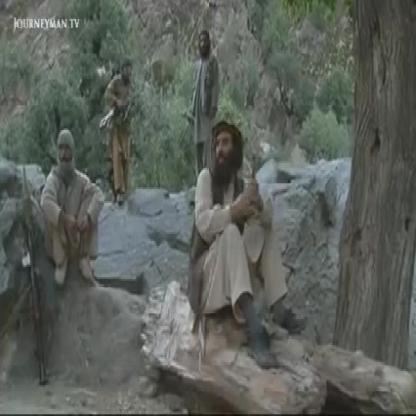Gun: (11, 158, 52, 382), (95, 85, 142, 134)
